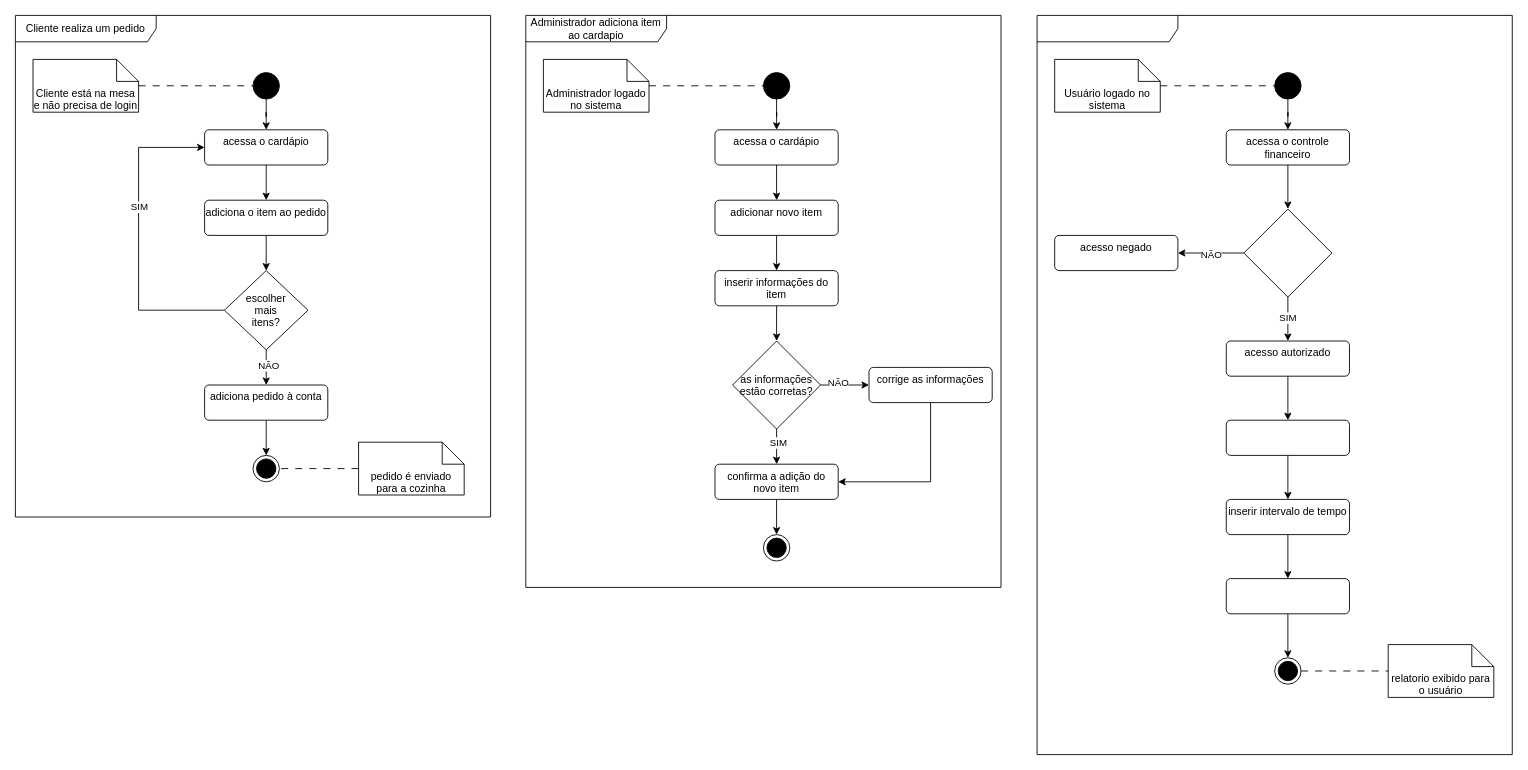
Some shapes in this 1528 by 770 pixel diagram are drawn without their labels. The shapes that lost their labels are listed below. From the top down, each one's box as (x1, y1, x2, y2) in pixels, then its label:
(1243, 208, 1332, 297): usuário possui permissão?
(1036, 15, 1512, 755): Geração do relatório de vendas
(1225, 419, 1349, 455): solicitar relatorio
(1225, 578, 1349, 614): confirmar
